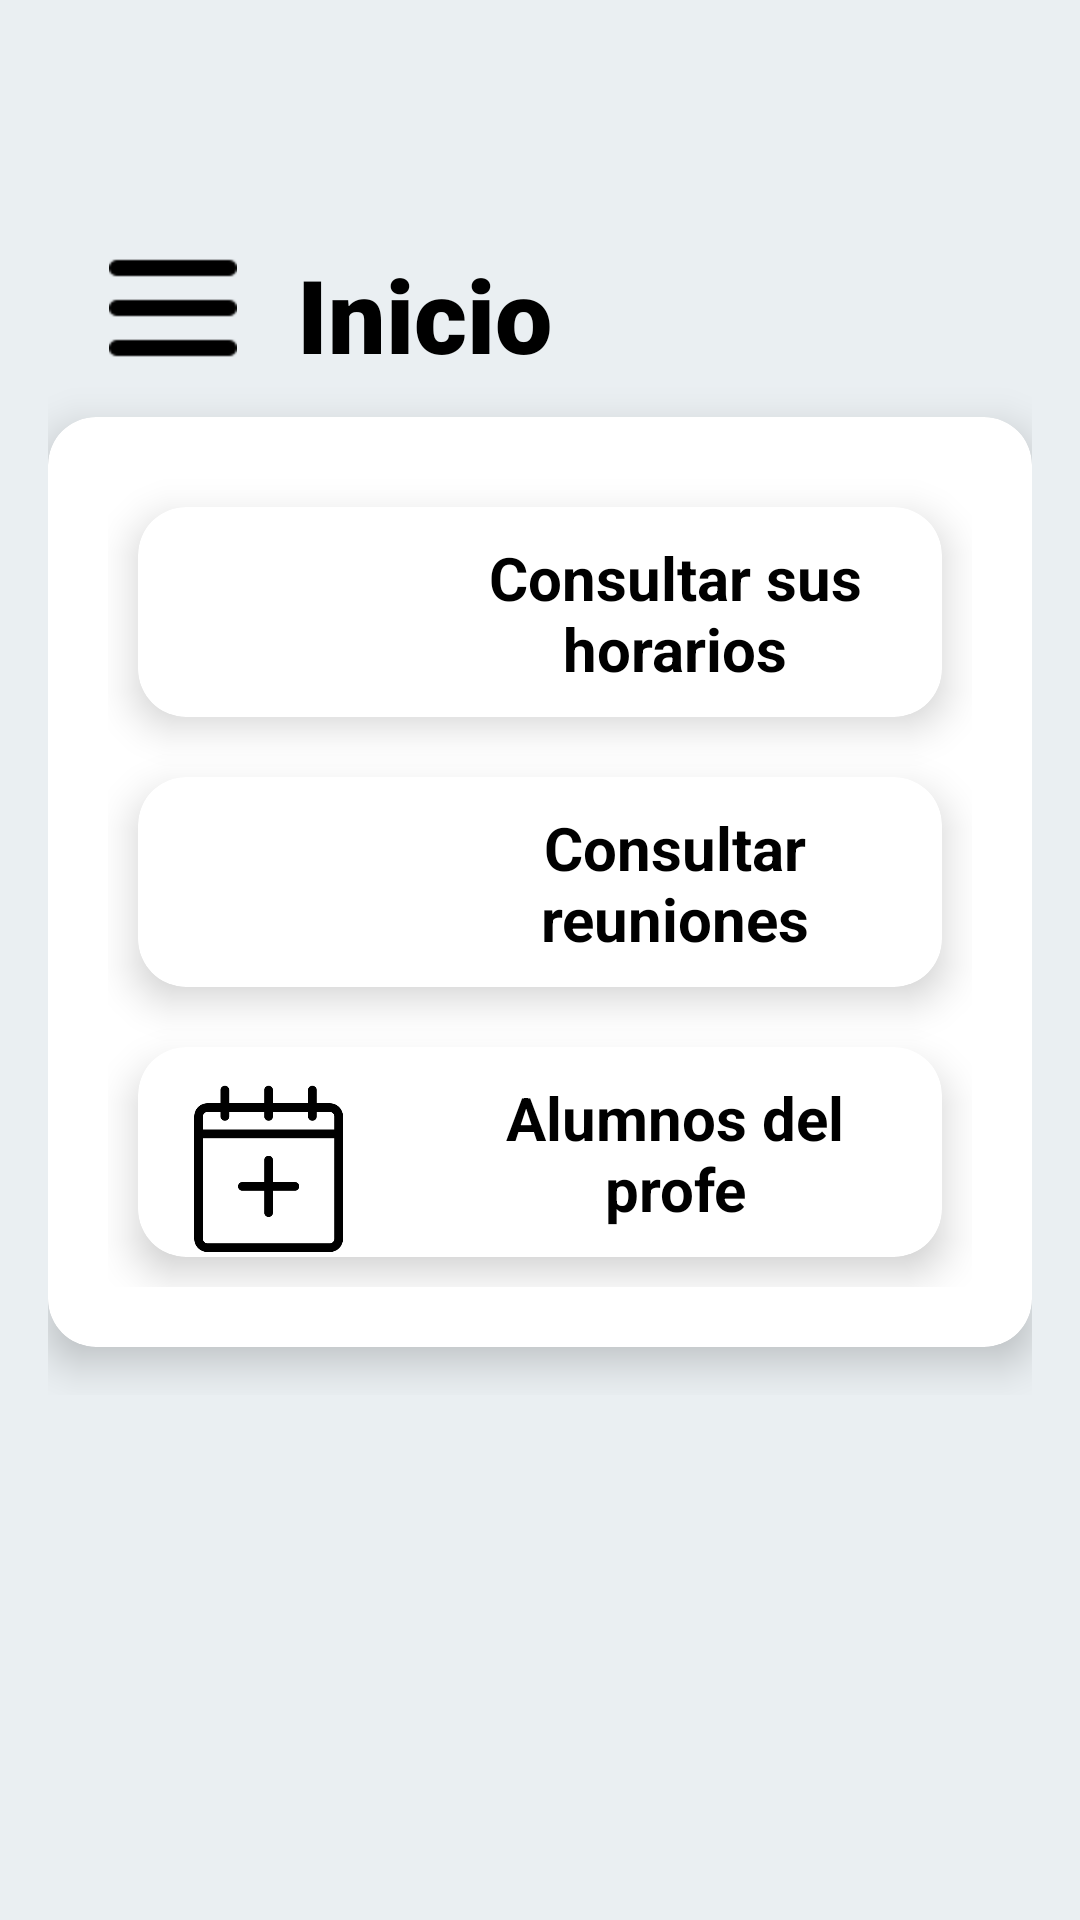

Where to tap for icons on this 1080x1920 app screen, as [x,y]:
menu: [173,308]
